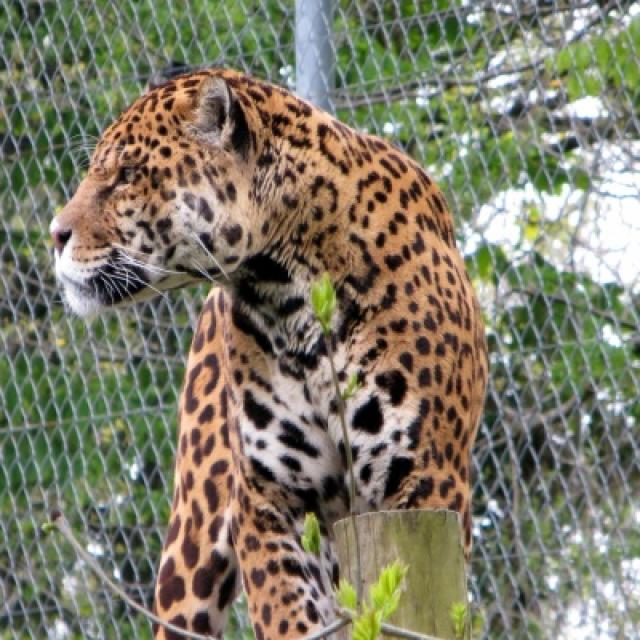Jaguar: (50, 69, 490, 638)
